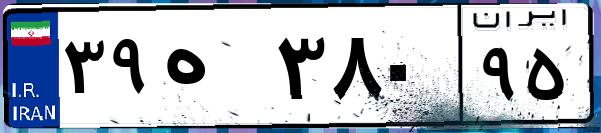0: (385, 28, 445, 110)
3: (270, 28, 330, 110), (57, 26, 110, 100)
5: (525, 38, 570, 115)
8: (330, 28, 385, 110)
9: (475, 38, 525, 113), (110, 28, 158, 98)
ه: (158, 20, 270, 120)
